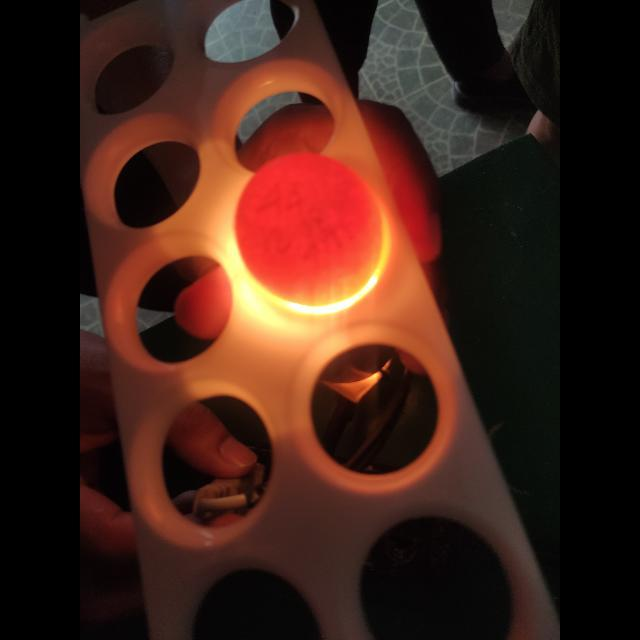Infertile: (235, 143, 392, 313)
